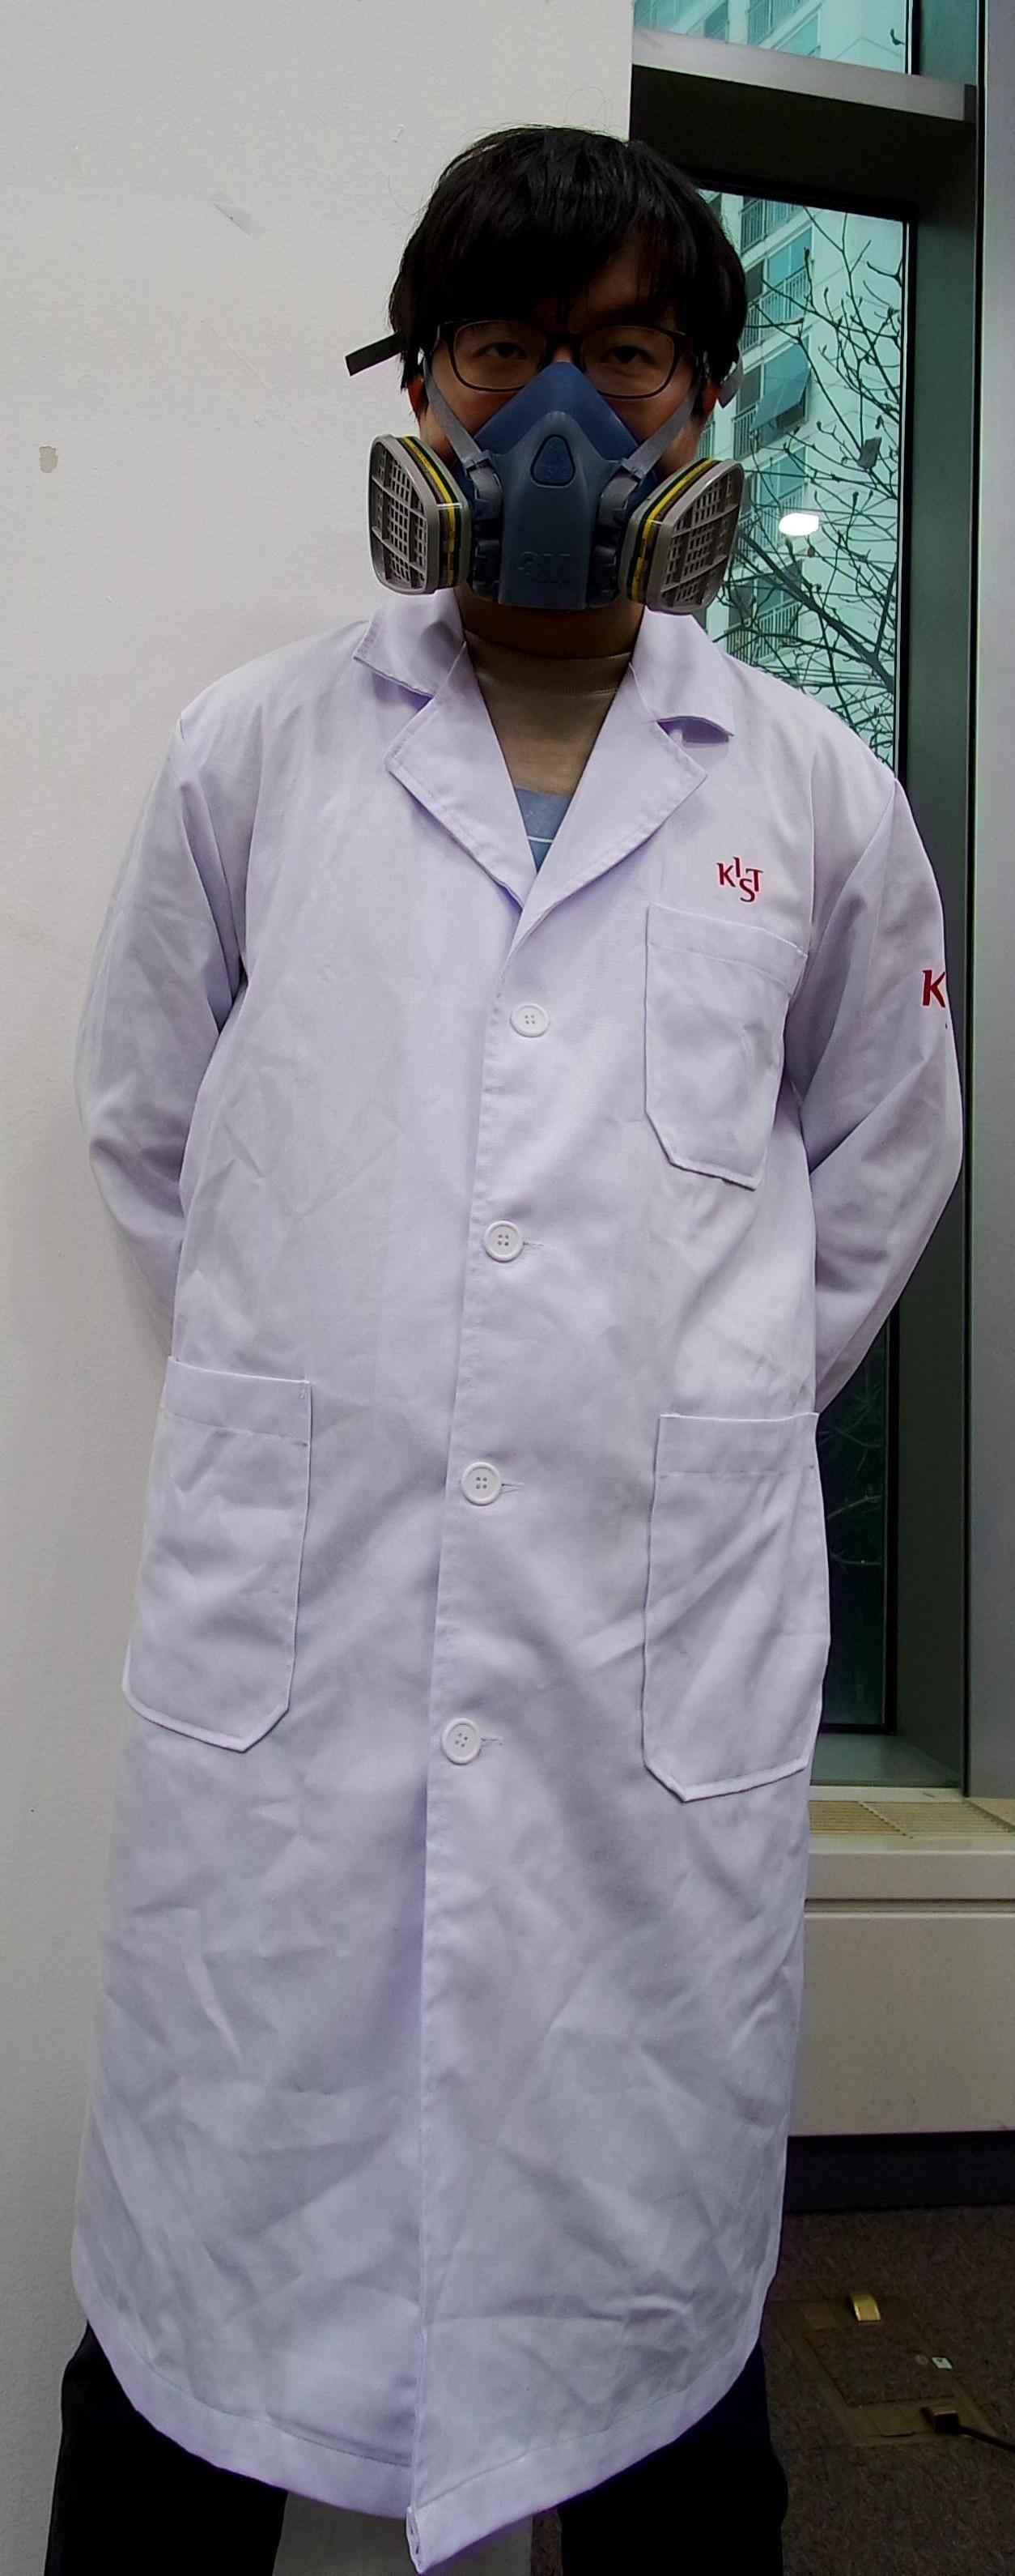lab_coat: (5, 644, 928, 2487)
